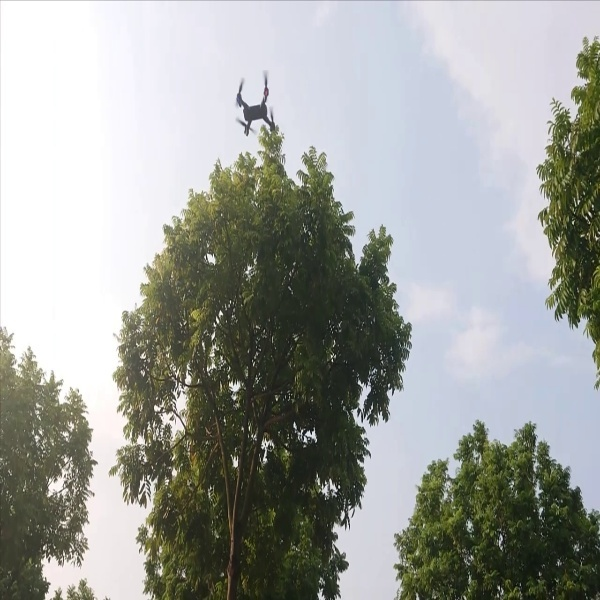drone: (227, 66, 284, 134)
